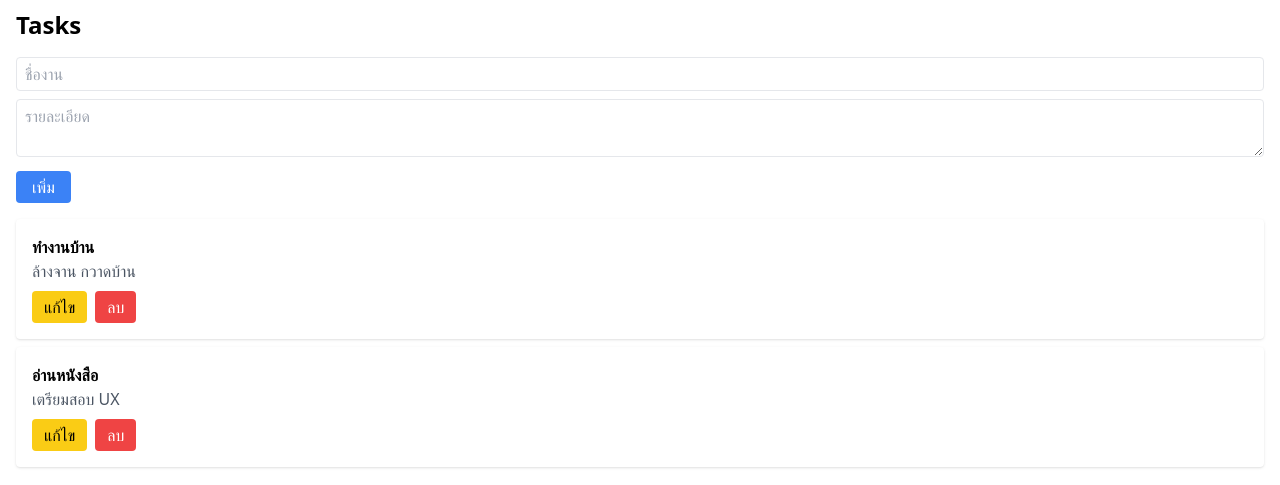
Test case: Tasks page (API CRUD tests) › updates a task title and description
The image size is (1280, 485).
Click the button "แก้ไข" below "ทำงานบ้าน" at (60, 307), box [32, 291, 87, 323]
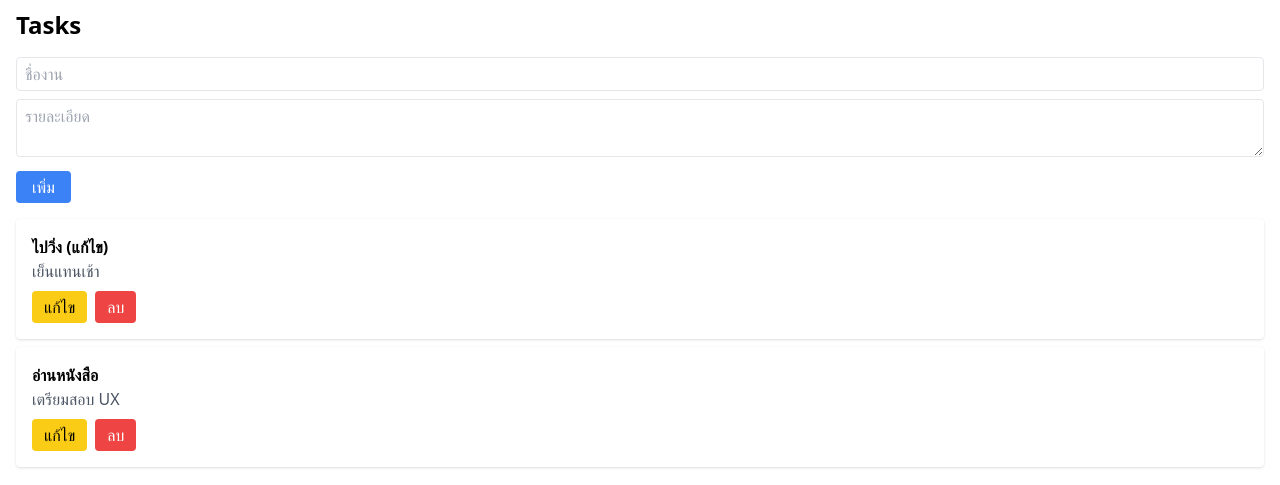
Expected: the text "ไปวิ่ง (แก้ไข)" is shown, [32, 236, 108, 258]
Expected: the text "เย็นแทนเช้า" is shown, [32, 260, 100, 282]
